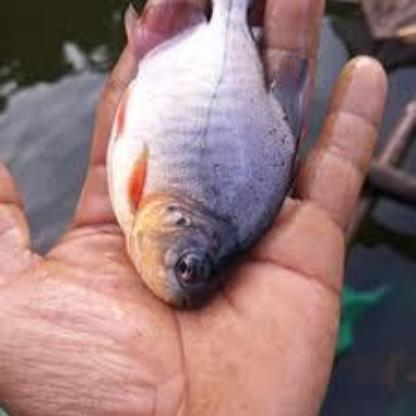ikan-pacu: (107, 0, 300, 310)
